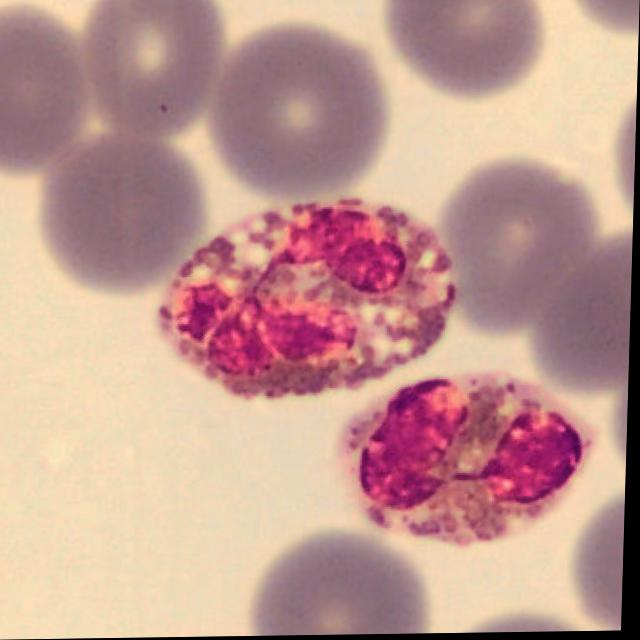Eosinofilo: (159, 196, 458, 399), (353, 371, 593, 548)
